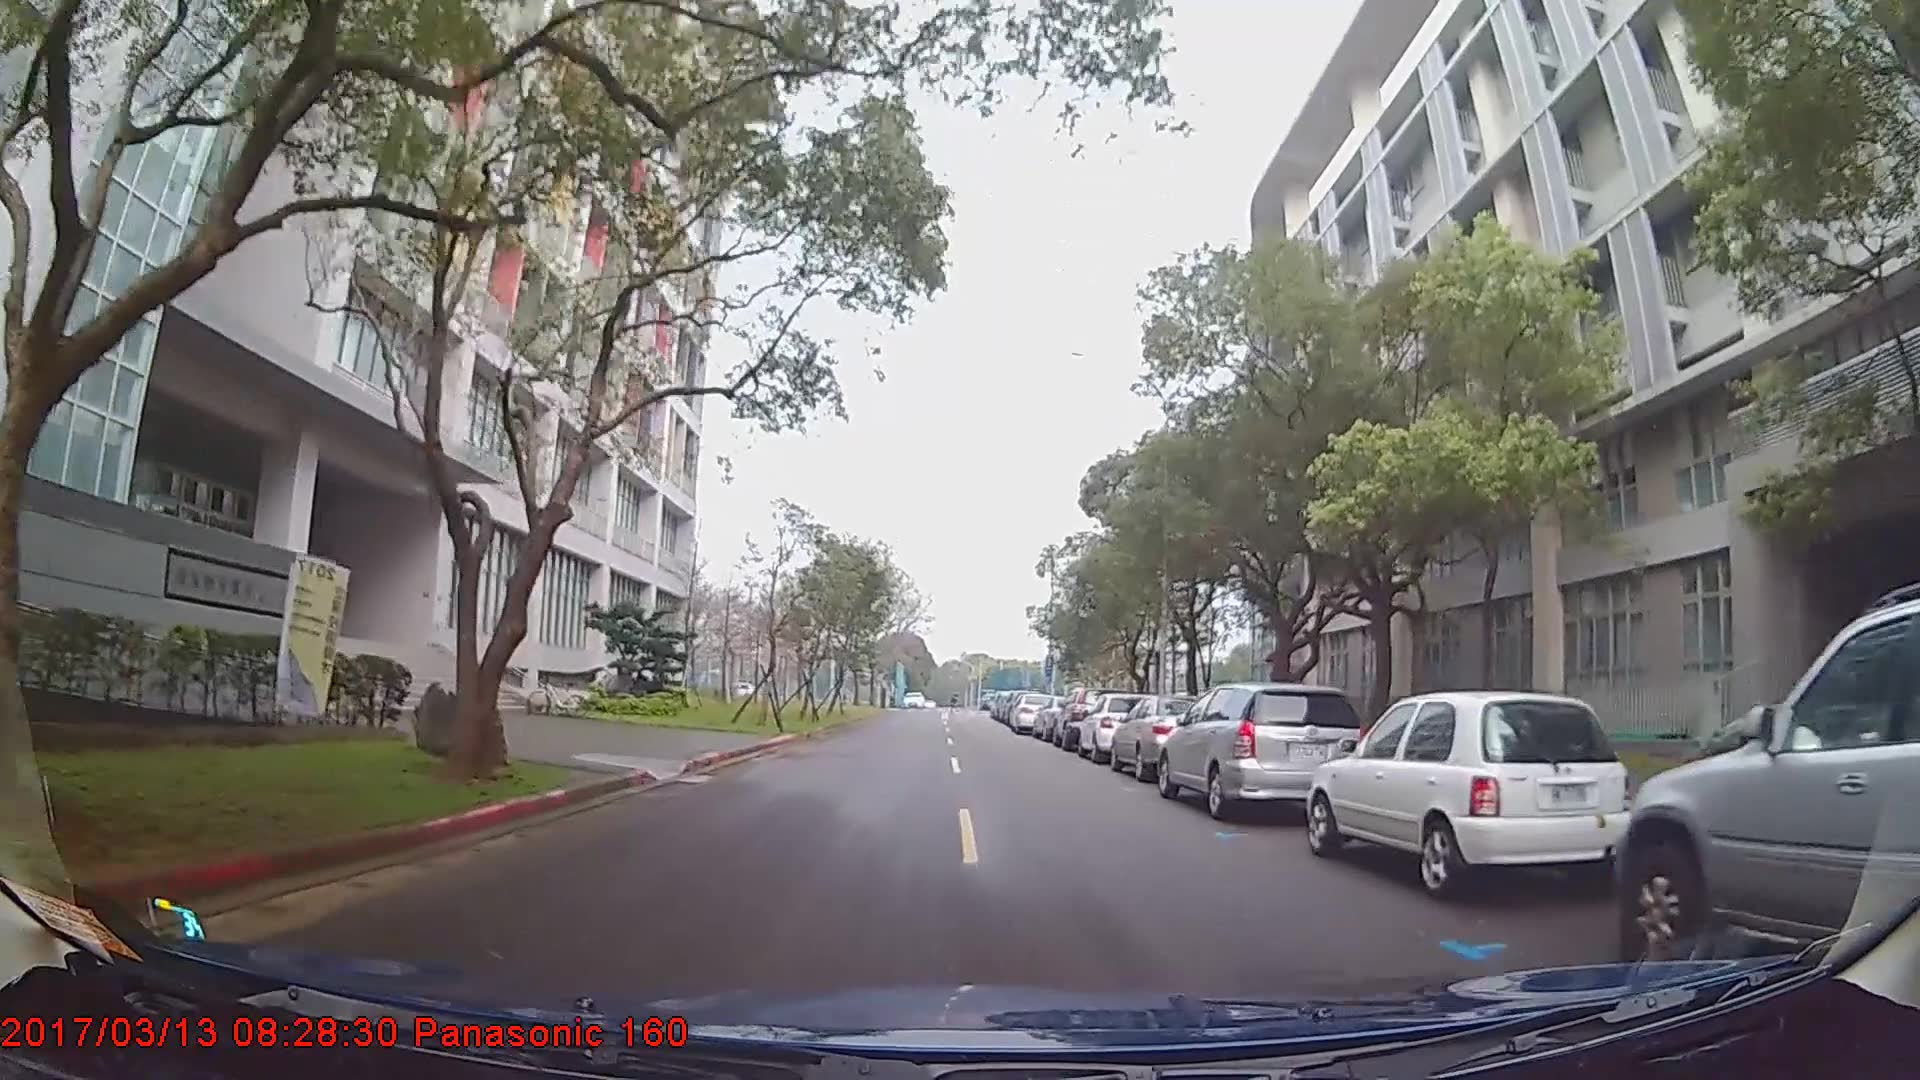vehicle: (1619, 607, 1920, 972), (1304, 688, 1633, 898), (1156, 680, 1370, 822), (1108, 692, 1226, 781), (1007, 688, 1060, 735)
